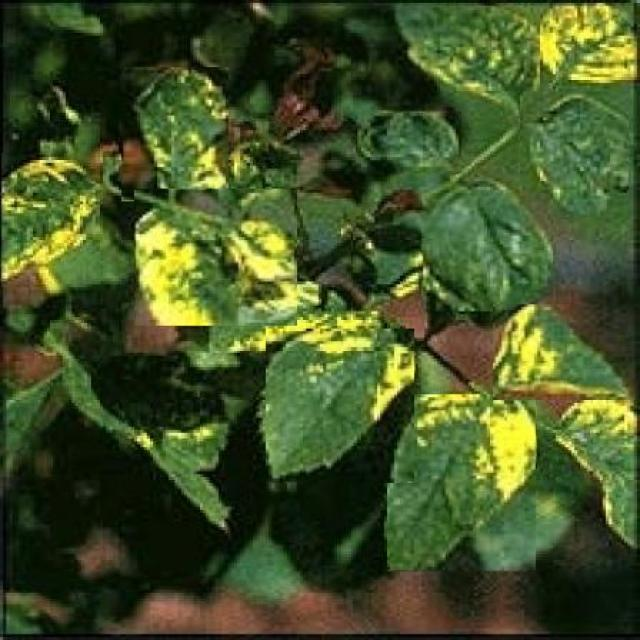Mosaic Virus: (387, 394, 536, 572), (265, 328, 415, 483), (134, 188, 297, 326), (421, 180, 553, 311), (387, 6, 540, 107), (122, 68, 228, 202), (494, 304, 639, 400), (520, 92, 628, 217), (2, 153, 99, 287), (357, 112, 462, 175)
